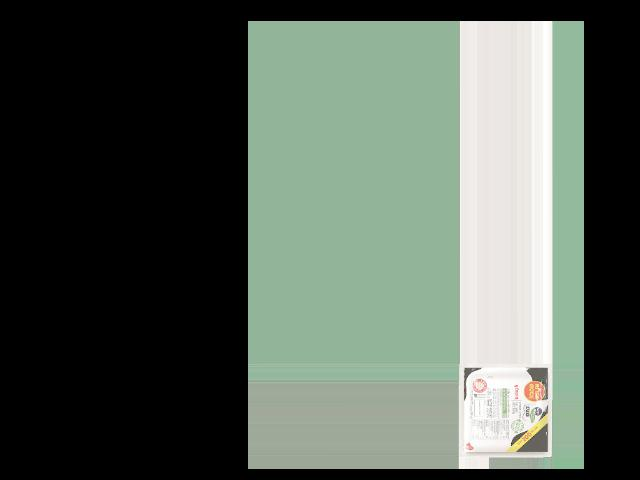cheese: (466, 366, 545, 456)
